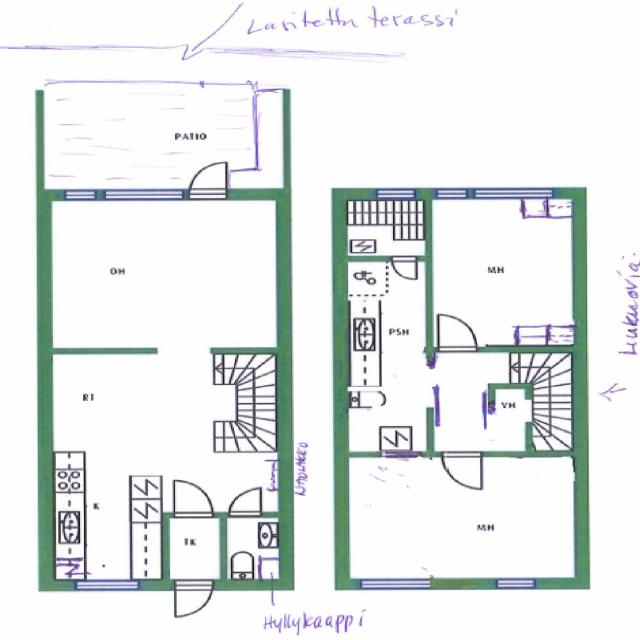door: (176, 580, 213, 621), (190, 161, 227, 201), (443, 452, 482, 489), (439, 316, 478, 353), (176, 484, 213, 518), (230, 487, 262, 519), (393, 257, 418, 281)
